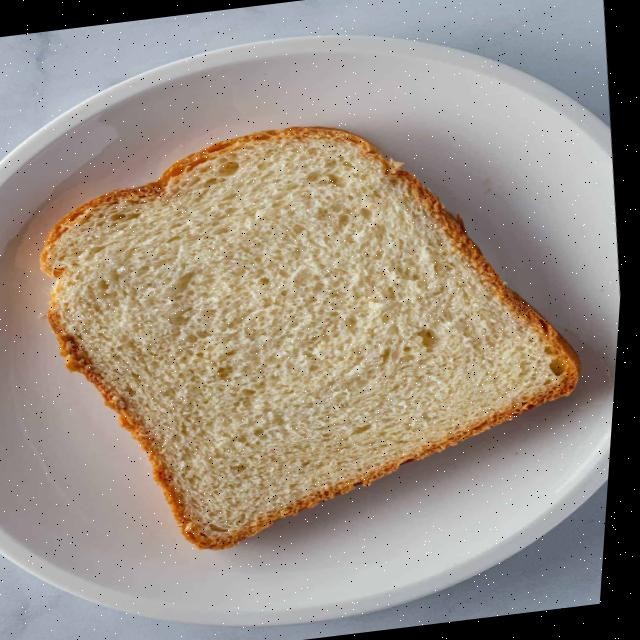Bread: (44, 126, 585, 549)
